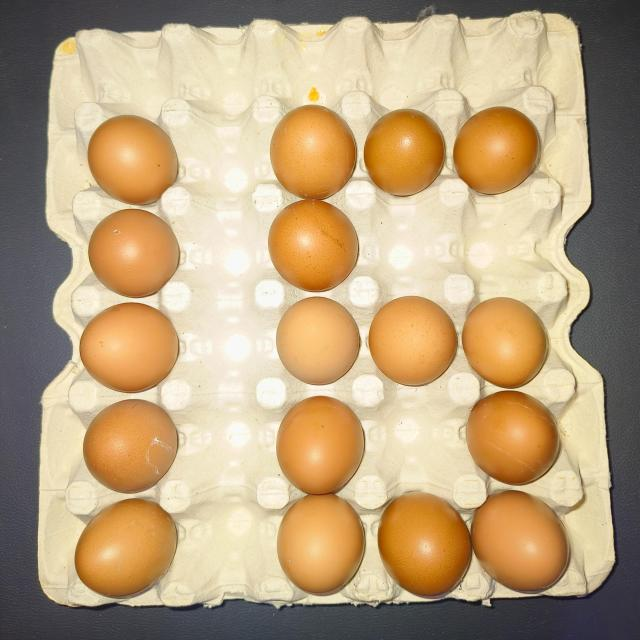Eggs: (75, 498, 181, 598), (279, 390, 380, 490), (86, 205, 179, 302), (478, 493, 570, 591), (383, 496, 472, 597), (85, 106, 176, 204), (269, 192, 359, 289), (278, 498, 368, 593), (80, 305, 179, 391), (82, 404, 176, 489), (464, 292, 544, 391), (456, 102, 542, 190), (368, 104, 447, 198), (466, 397, 559, 475), (274, 106, 356, 191), (369, 306, 455, 384), (278, 305, 358, 383)
